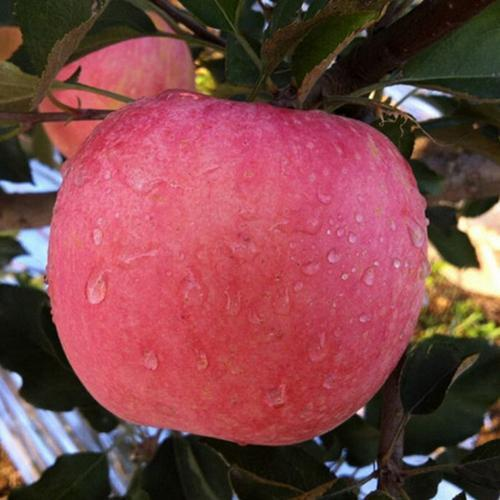apple: (49, 89, 425, 436), (31, 34, 207, 184)
